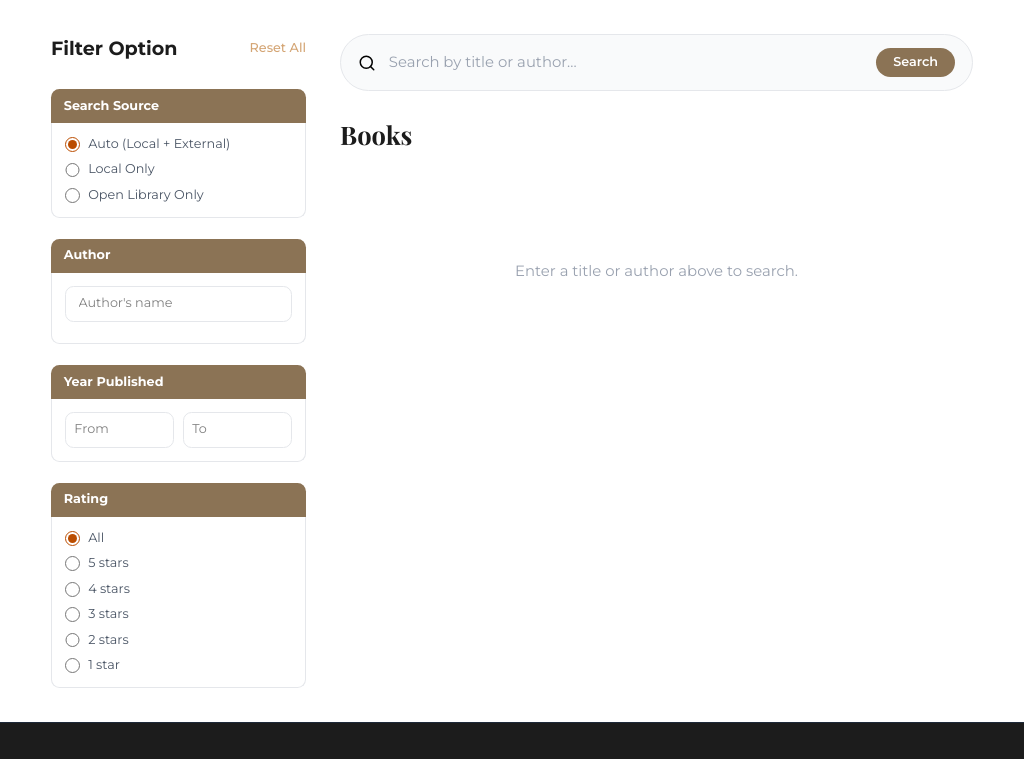
SearchPage › search form › shows the clear button once the user types something
Type "gatsby" into the field named "Search books" at (626,63), box 389,52 -> 864,73
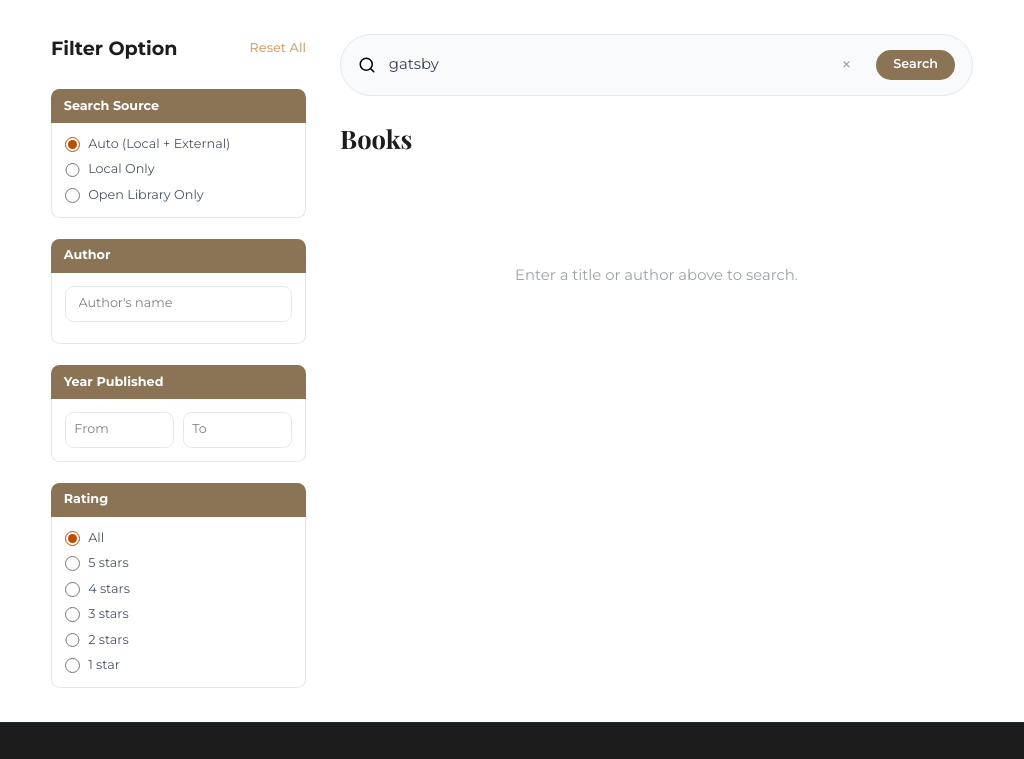
Expected: the button named "Clear search" is shown, 829,48 -> 863,82
